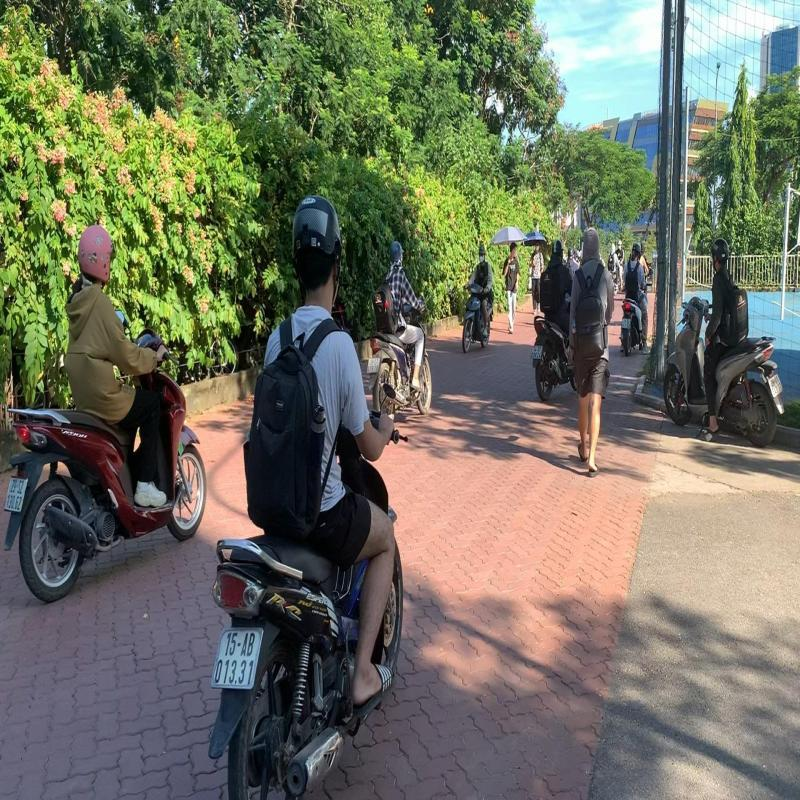helmet: (290, 195, 345, 291), (72, 224, 120, 290)
licenseplate: (206, 618, 268, 698), (0, 468, 32, 522)
motorcyclist: (202, 187, 421, 800), (0, 217, 212, 618)
